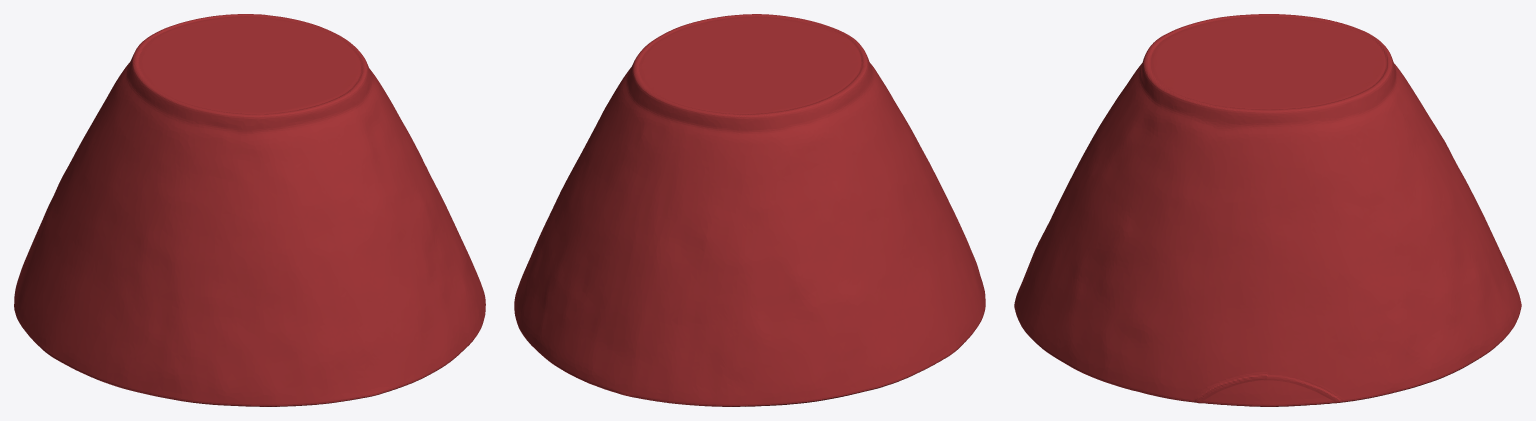
File: skirt.glb
3 views of the same model, side by side, from view 1: azimuth 30°, elevation 25°; view 2: azimuth 150°, elevation 25°; view 3: azimuth 270°, elevation 25° (orthographic).
Visible parts, largest first — view 1: geometry_0; view 2: geometry_0; view 3: geometry_0.
Part boxes in pixels (x1,y1,x2,y2): geometry_0: (14,14,485,406); geometry_0: (514,14,985,406); geometry_0: (1014,14,1521,406).
Size of the model in its own units: 0.5167 by 0.2941 by 0.5511.
